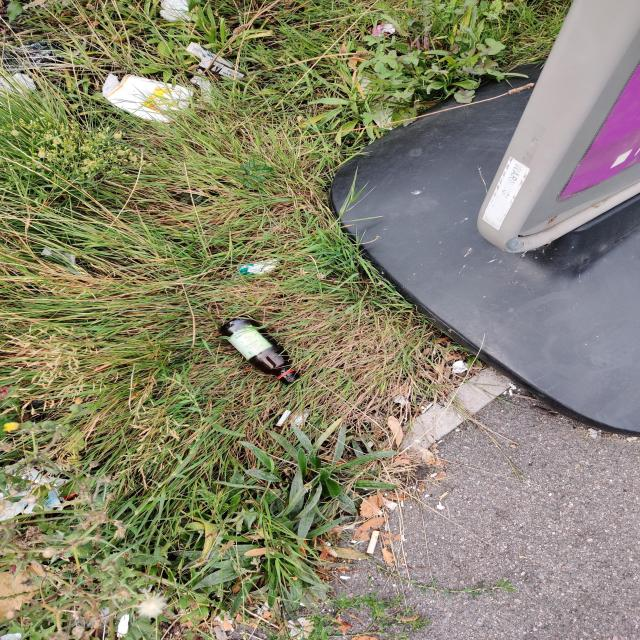litter: (75, 63, 193, 125), (215, 313, 297, 380), (189, 37, 257, 90), (229, 257, 283, 281), (267, 404, 301, 434), (360, 526, 388, 562)
